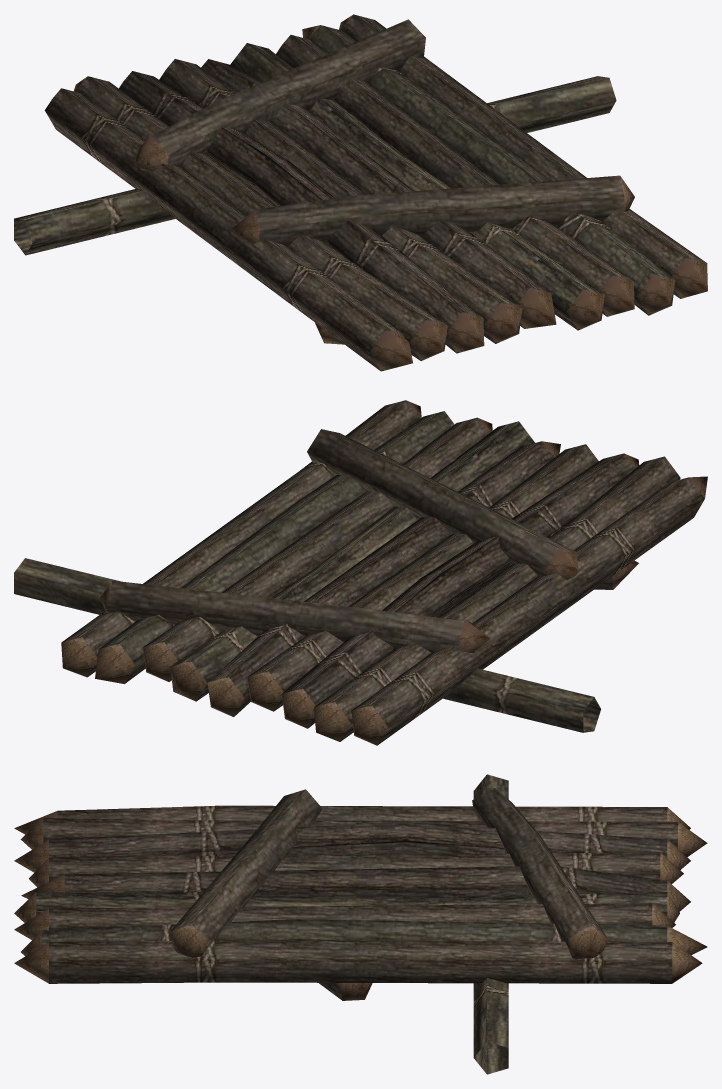
The model's file is EVT_OC_MAINGATE01_01.glb.
The picture shows the model from 3 angles, top to bottom: view 1: azimuth 30°, elevation 25°; view 2: azimuth 150°, elevation 25°; view 3: azimuth 270°, elevation 25°; orthographic projection. The views are drawn at different scales.
Parts seen in each view (by area): view 1: Mesh; view 2: Mesh; view 3: Mesh.
Part boxes in pixels (x1=…): Mesh: x1=14, y1=14, x2=707, y2=371; Mesh: x1=14, y1=400, x2=707, y2=745; Mesh: x1=14, y1=774, x2=707, y2=1074.
Size of the model in its own units: 10.14 by 1.56 by 11.13.
2 materials, 2 textured.
